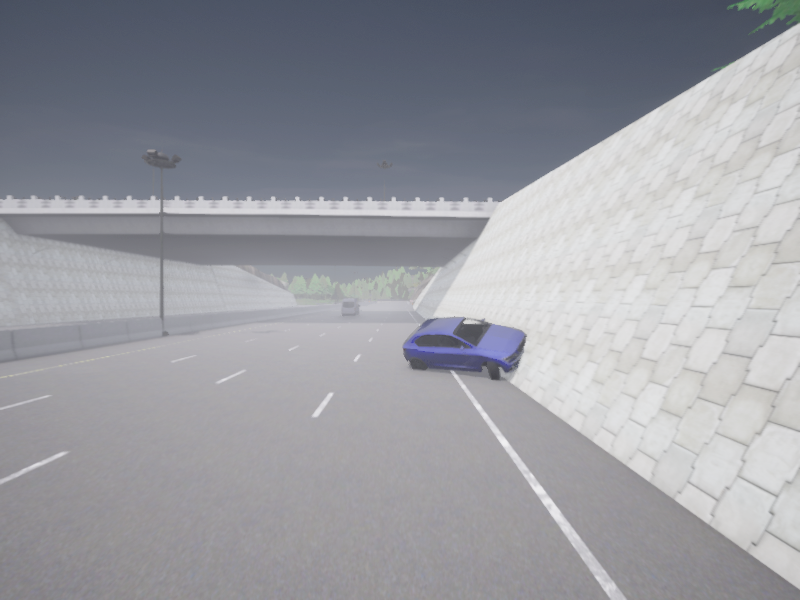vehicle: (402, 317, 526, 379), (342, 298, 359, 316)
